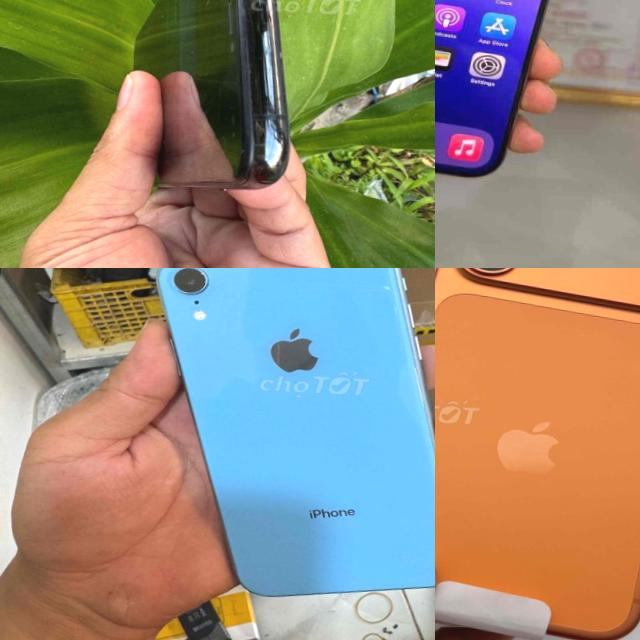gen_15: (435, 0, 604, 204)
gen_17: (435, 268, 640, 640)
gen_x_xs: (123, 268, 435, 621), (100, 0, 337, 202)
